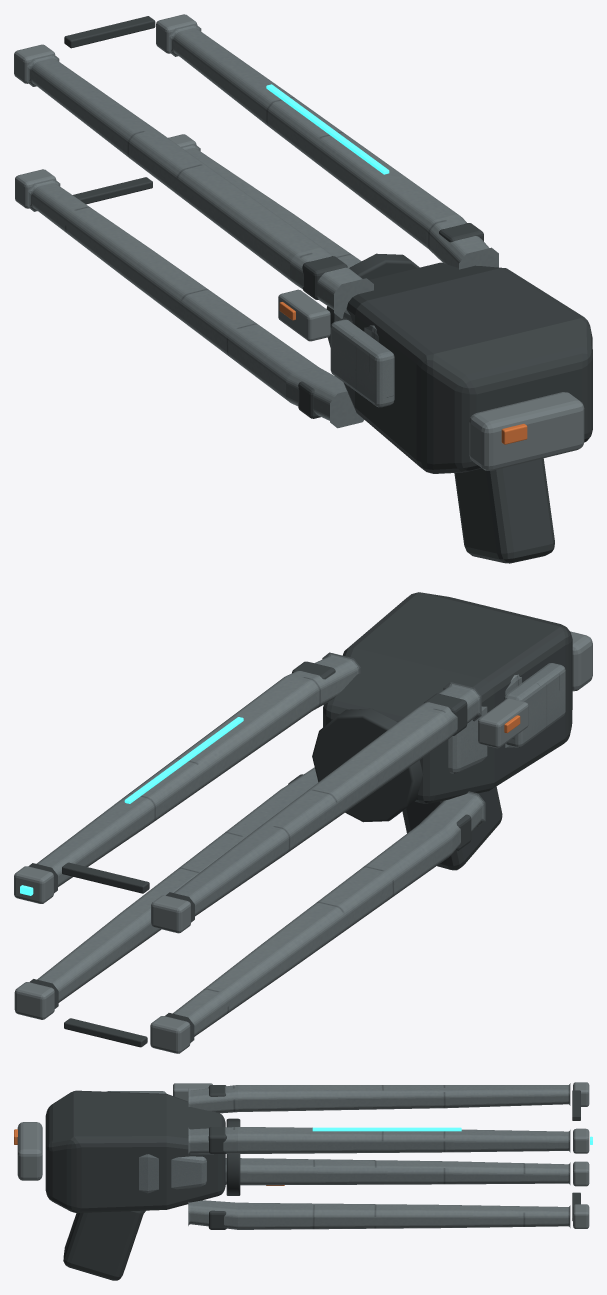
Rendered from kestrel_rail_gatling.glb.
3 views of the same model, one above another, from view 1: azimuth 30°, elevation 25°; view 2: azimuth 150°, elevation 25°; view 3: azimuth 270°, elevation 25° (orthographic). The views are drawn at different scales.
Visible parts, largest first — view 1: GatlingRotor_Weatheredslateceramic, Unparented_Graphitemechanism, Unparented_Darkbrushedsteel, Unparented_Weatheredslateceramic, GatlingRotor_Graphitemechanism, GatlingRotor_Darkbrushedsteel, GatlingRotor_Mintstatuschannel; view 2: GatlingRotor_Weatheredslateceramic, Unparented_Graphitemechanism, GatlingRotor_Darkbrushedsteel, Unparented_Weatheredslateceramic, GatlingRotor_Graphitemechanism, Unparented_Darkbrushedsteel, GatlingRotor_Mintstatuschannel; view 3: GatlingRotor_Weatheredslateceramic, Unparented_Graphitemechanism, Unparented_Weatheredslateceramic, Unparented_Darkbrushedsteel, GatlingRotor_Darkbrushedsteel, GatlingRotor_Graphitemechanism, GatlingRotor_Mintstatuschannel.
Part boxes in pixels (<box>): GatlingRotor_Weatheredslateceramic: <box>27,23,498,428</box>; Unparented_Graphitemechanism: <box>326,253,592,563</box>; Unparented_Darkbrushedsteel: <box>278,289,584,470</box>; Unparented_Weatheredslateceramic: <box>330,309,394,407</box>; GatlingRotor_Graphitemechanism: <box>64,16,483,418</box>; GatlingRotor_Darkbrushedsteel: <box>14,14,197,208</box>; GatlingRotor_Mintstatuschannel: <box>266,84,389,174</box>; GatlingRotor_Weatheredslateceramic: <box>28,652,485,1042</box>; Unparented_Graphitemechanism: <box>312,592,572,870</box>; GatlingRotor_Darkbrushedsteel: <box>14,866,190,1053</box>; Unparented_Weatheredslateceramic: <box>323,663,565,773</box>; GatlingRotor_Graphitemechanism: <box>62,661,471,1047</box>; Unparented_Darkbrushedsteel: <box>478,631,592,748</box>; GatlingRotor_Mintstatuschannel: <box>20,717,243,895</box>; GatlingRotor_Weatheredslateceramic: <box>188,1083,570,1229</box>; Unparented_Graphitemechanism: <box>45,1090,240,1280</box>; Unparented_Weatheredslateceramic: <box>107,1091,206,1193</box>; Unparented_Darkbrushedsteel: <box>17,1083,212,1212</box>; GatlingRotor_Darkbrushedsteel: <box>573,1082,589,1228</box>; GatlingRotor_Graphitemechanism: <box>208,1085,580,1229</box>; GatlingRotor_Mintstatuschannel: <box>312,1127,592,1144</box>.
Size of the model in its own units: 0.505 by 0.5888 by 1.87.
Materials: 5 (1 with a texture image).
